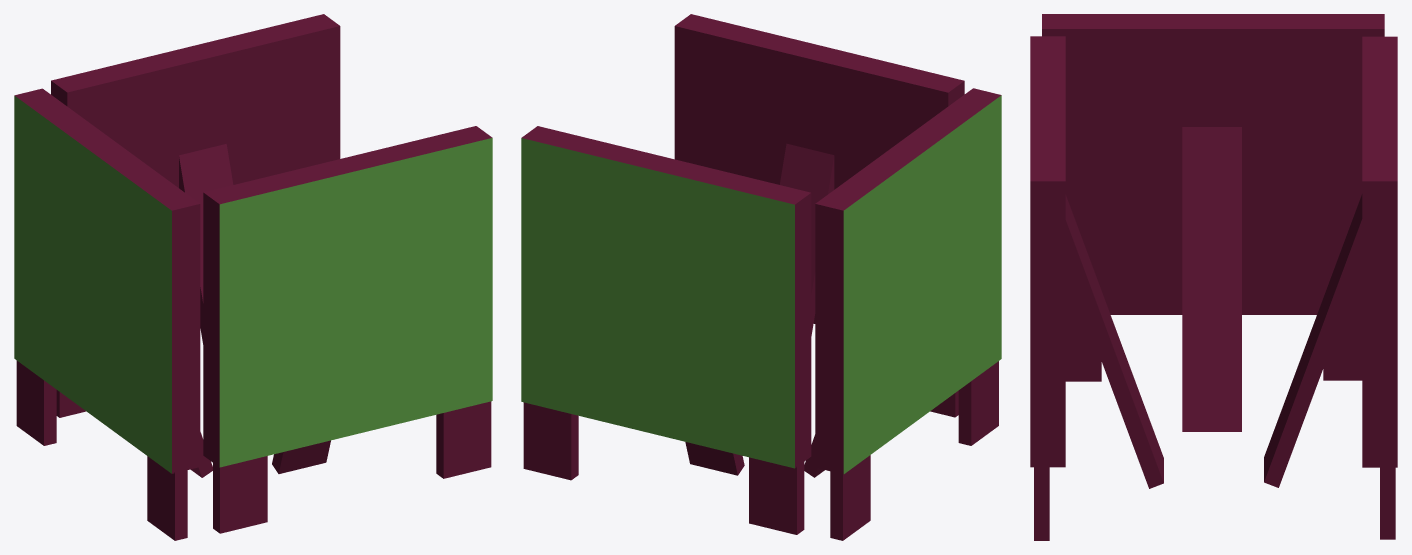
Rendered from Billboards.fbx.
3 views of the same model, side by side, from view 1: azimuth 30°, elevation 25°; view 2: azimuth 150°, elevation 25°; view 3: azimuth 270°, elevation 25° (orthographic). The views are drawn at different scales.
Parts seen in each view (by area): view 1: polySurface1136; view 2: polySurface1136; view 3: polySurface1136.
Boxes of the visible parts, x1,y1,x2,y2 form: polySurface1136: (14, 14, 492, 540); polySurface1136: (521, 14, 1001, 540); polySurface1136: (1030, 14, 1397, 540).
Bounding box in the file's own units: 38.6 × 39.47 × 35.8.
